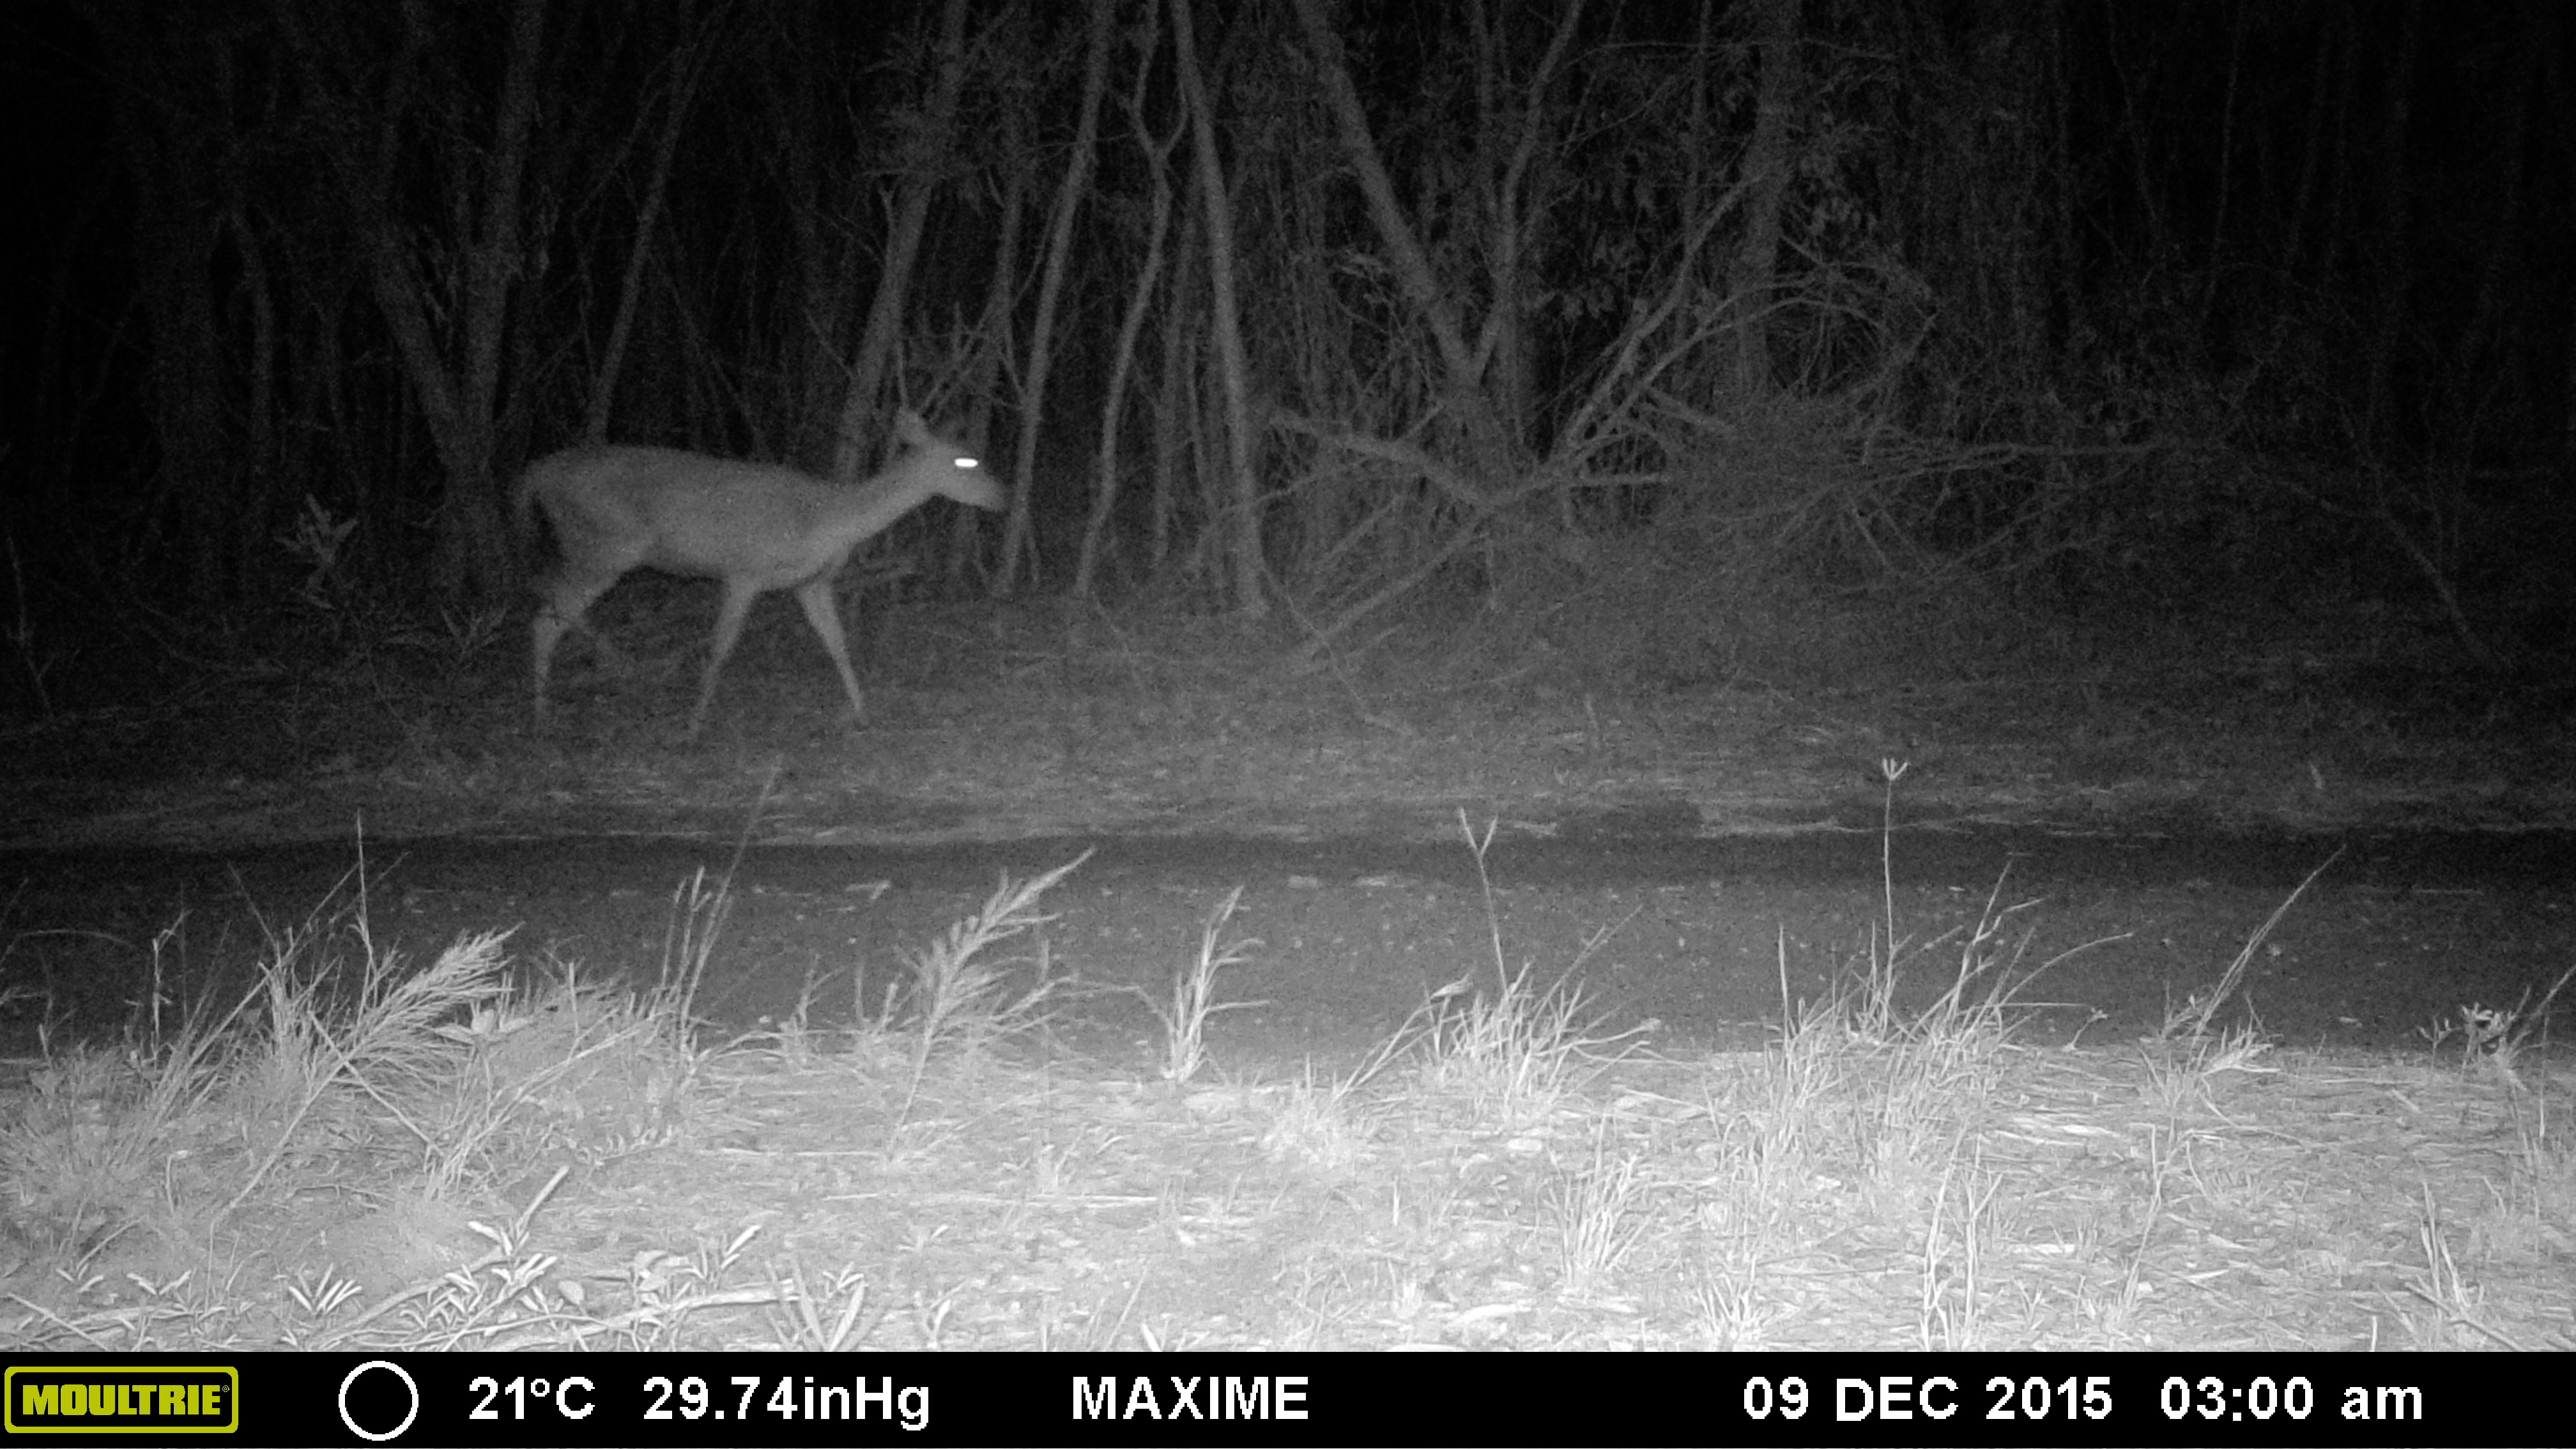Deer: (495, 414, 1028, 750)
